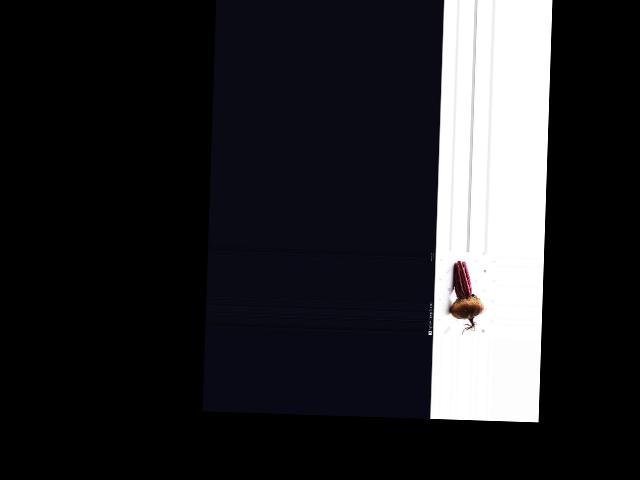beet: (449, 260, 485, 334)
